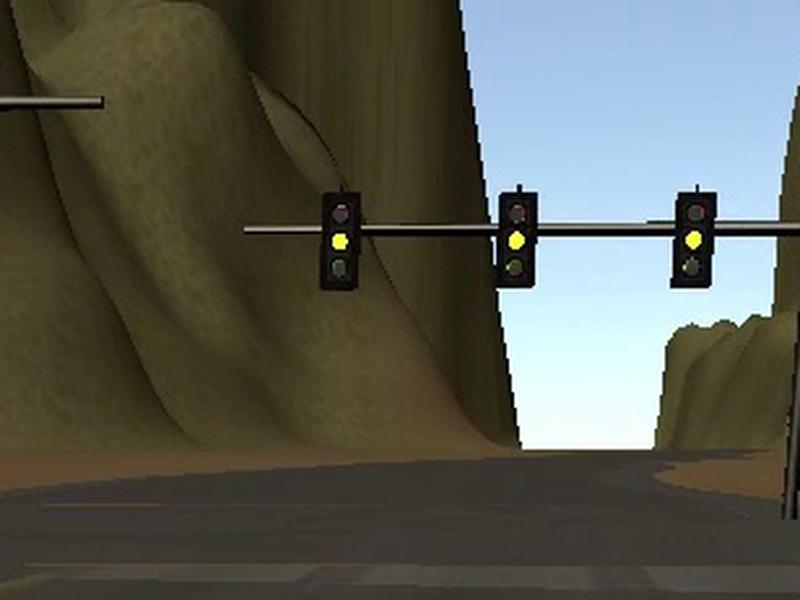Yellow: (669, 191, 717, 288), (317, 192, 361, 290), (497, 192, 537, 288)
